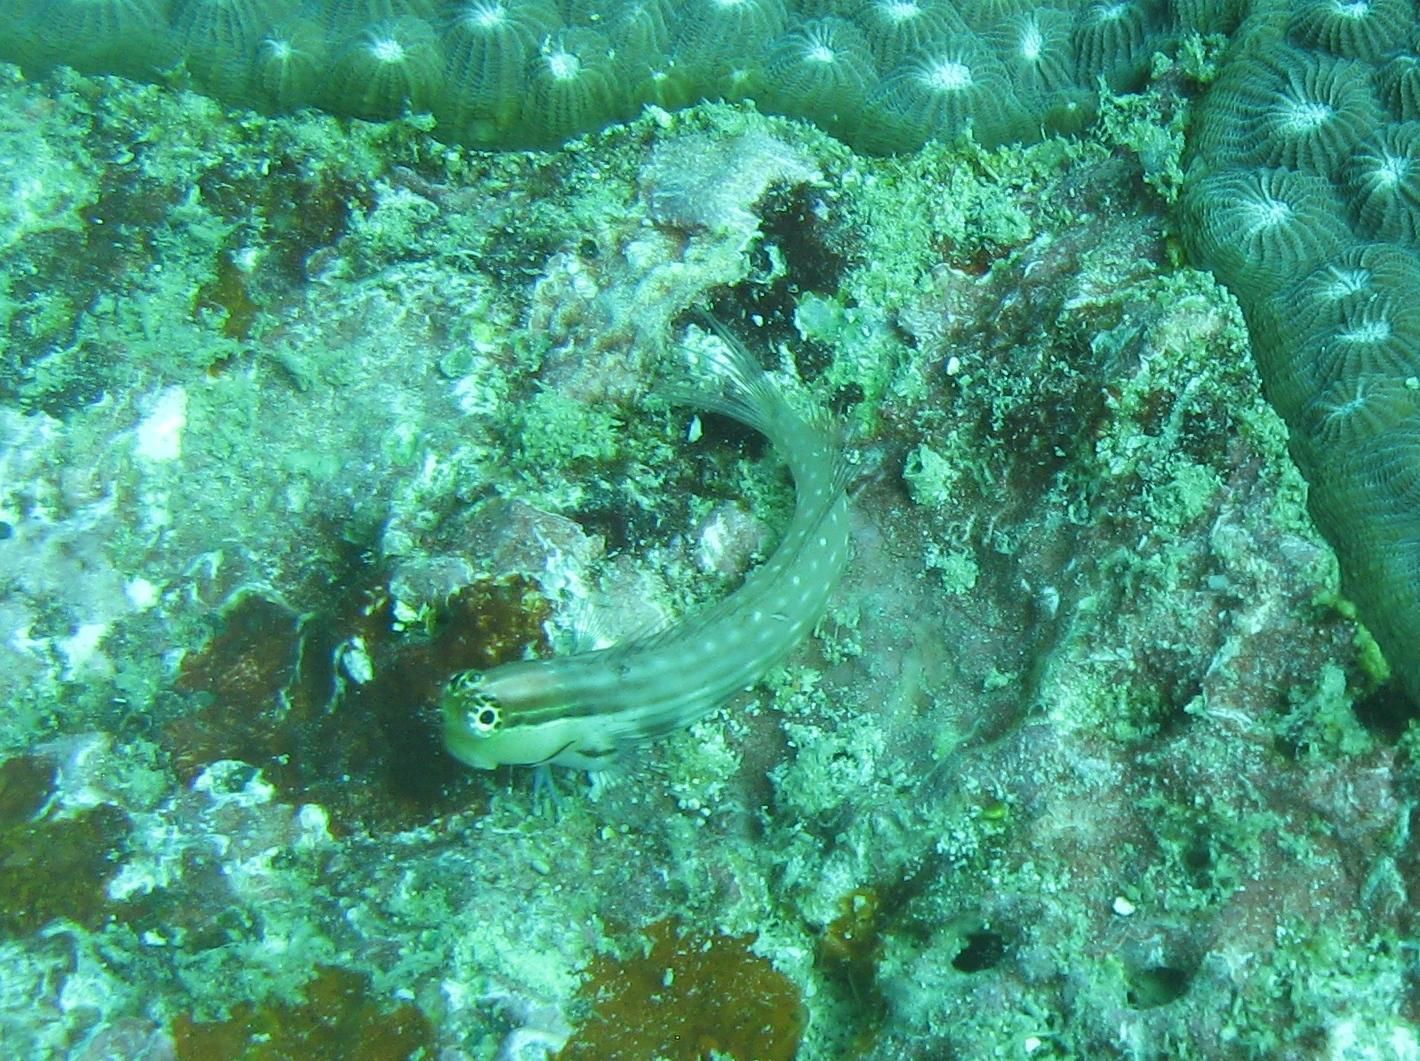Fish: (390, 301, 936, 792)
